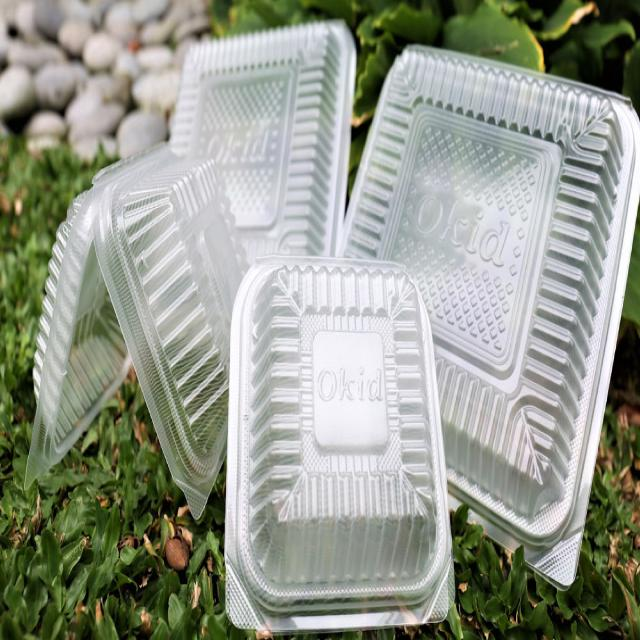plastic: (358, 37, 640, 584), (221, 251, 454, 640), (23, 152, 238, 514), (170, 27, 354, 252)
